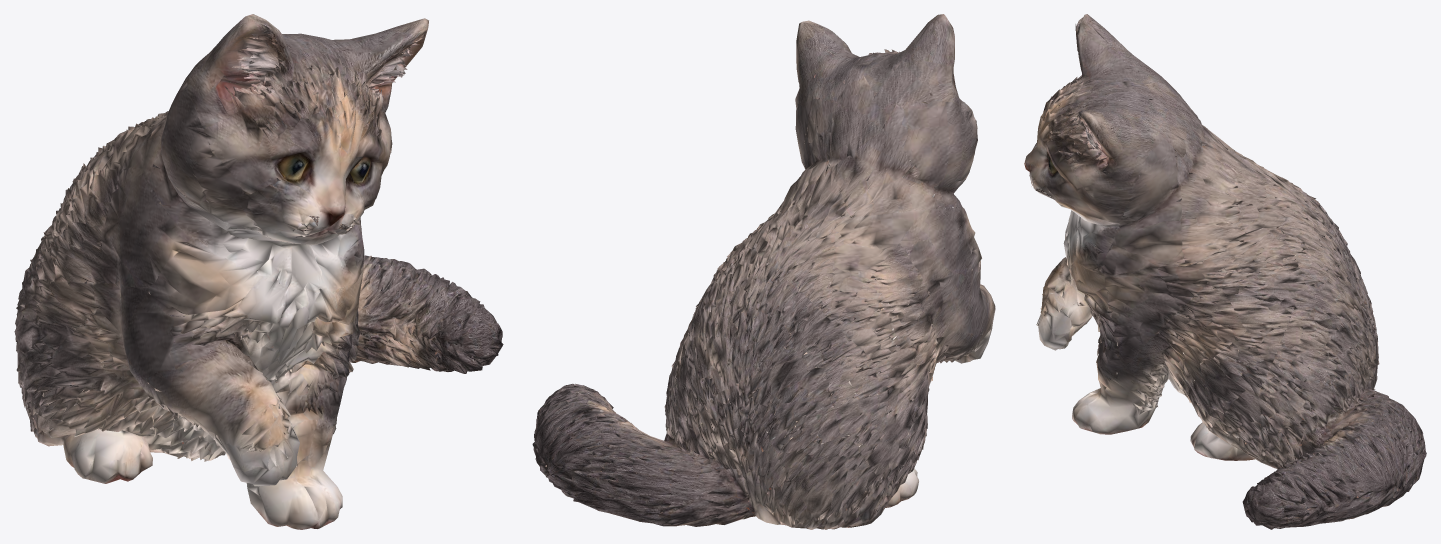
Rendered from kitten.glb.
3 views of the same model, side by side, from view 1: azimuth 30°, elevation 25°; view 2: azimuth 150°, elevation 25°; view 3: azimuth 270°, elevation 25° (orthographic). The views are drawn at different scales.
Visible parts, largest first — view 1: kitten; view 2: kitten; view 3: kitten.
Part boxes in pixels (x1,y1,x2,y2): kitten: (14, 14, 503, 529); kitten: (532, 14, 995, 529); kitten: (1024, 14, 1426, 529).
Bounding box in the file's own units: 0.2306 × 0.2499 × 0.2355.
Materials: 1 (1 with a texture image).
